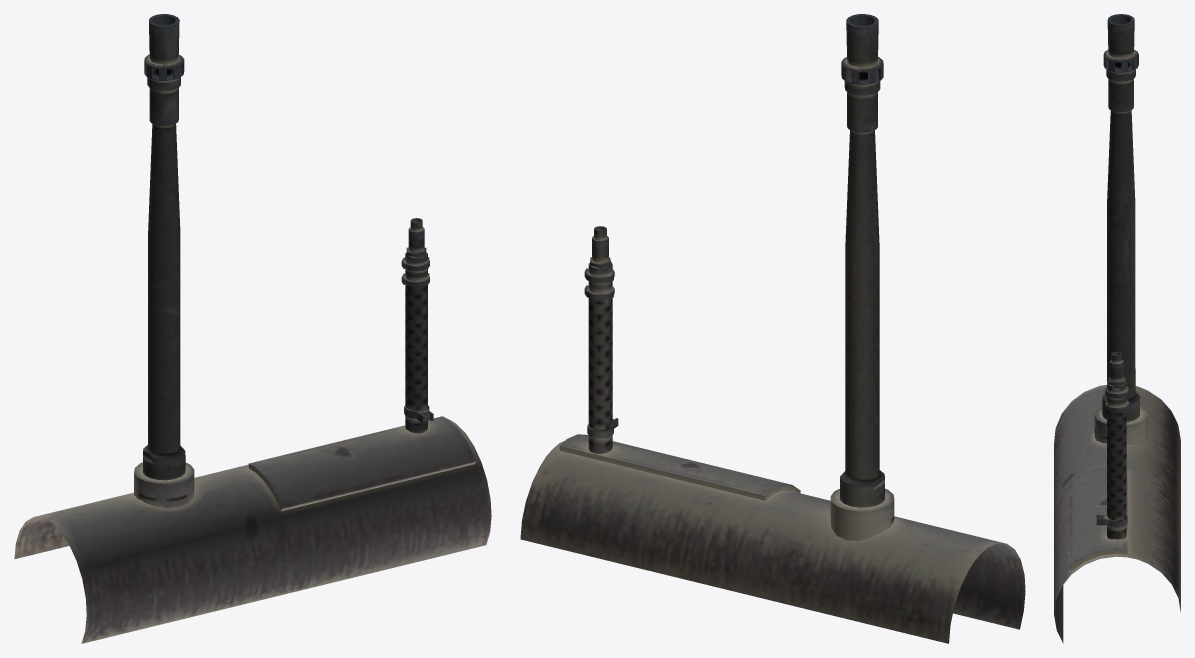
Rendered from Gun_02.glb.
The picture shows the model from 3 angles, left to right: view 1: azimuth 30°, elevation 25°; view 2: azimuth 150°, elevation 25°; view 3: azimuth 270°, elevation 25°; orthographic projection. The views are drawn at different scales.
Visible parts, largest first — view 1: set_0_group_0; view 2: set_0_group_0; view 3: set_0_group_0.
Part boxes in pixels (<box>): set_0_group_0: <box>14,14,491,643</box>; set_0_group_0: <box>520,14,1025,643</box>; set_0_group_0: <box>1054,14,1180,643</box>.
Bounding box in the file's own units: 0.7826 × 1.05 × 0.2419.
Materials: 1 (1 with a texture image).
